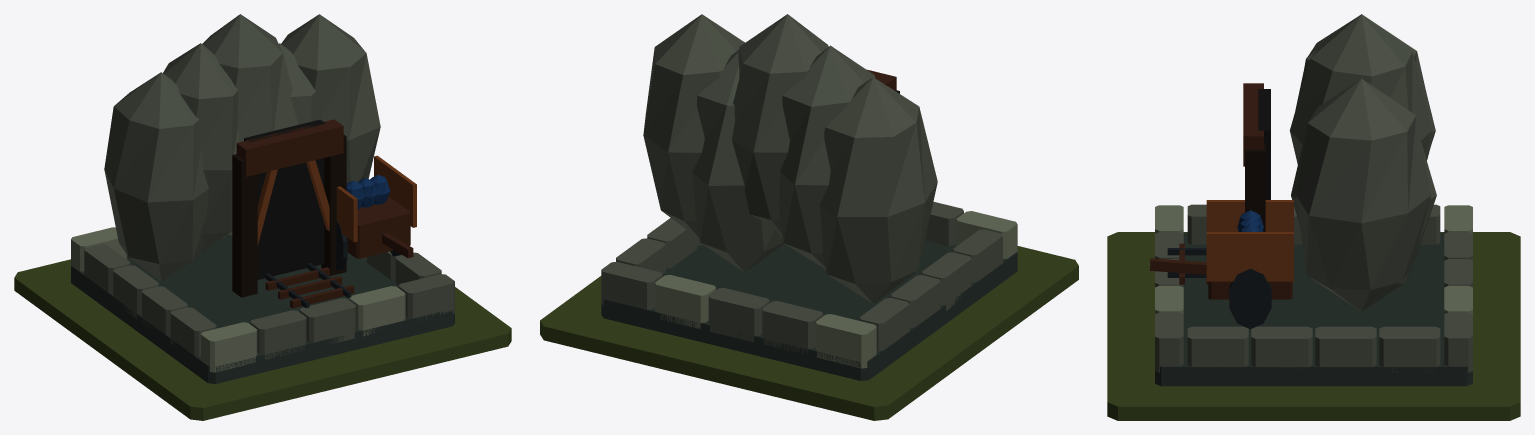
The model's file is mine_t1.glb.
3 views of the same model, side by side, from view 1: azimuth 30°, elevation 25°; view 2: azimuth 150°, elevation 25°; view 3: azimuth 270°, elevation 25° (orthographic). The views are drawn at different scales.
Visible parts, largest first — view 1: MMR | mine | T01 Architecture.001, MMR | mine | Tier 01 Ground.001; view 2: MMR | mine | T01 Architecture.001, MMR | mine | Tier 01 Ground.001; view 3: MMR | mine | T01 Architecture.001, MMR | mine | Tier 01 Ground.001.
Part boxes in pixels (x1,y1,x2,y2): MMR | mine | T01 Architecture.001: (71, 14, 454, 383); MMR | mine | Tier 01 Ground.001: (14, 259, 511, 420); MMR | mine | T01 Architecture.001: (601, 14, 1017, 380); MMR | mine | Tier 01 Ground.001: (540, 246, 1078, 420); MMR | mine | T01 Architecture.001: (1150, 14, 1472, 386); MMR | mine | Tier 01 Ground.001: (1107, 232, 1520, 420).
Bounding box in the file's own units: 1.3 × 1.11 × 1.3.
1 material, 1 textured.
